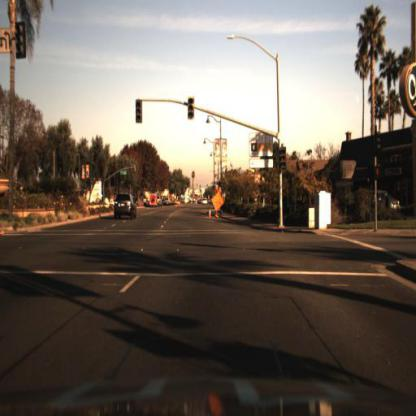car: (112, 191, 140, 225), (365, 190, 402, 213), (149, 192, 163, 210)
trafficLight-Green: (277, 148, 288, 172), (189, 95, 197, 124), (135, 97, 143, 124)
